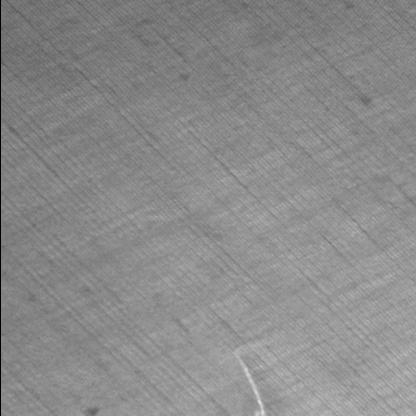objects: (225, 336, 283, 415)
